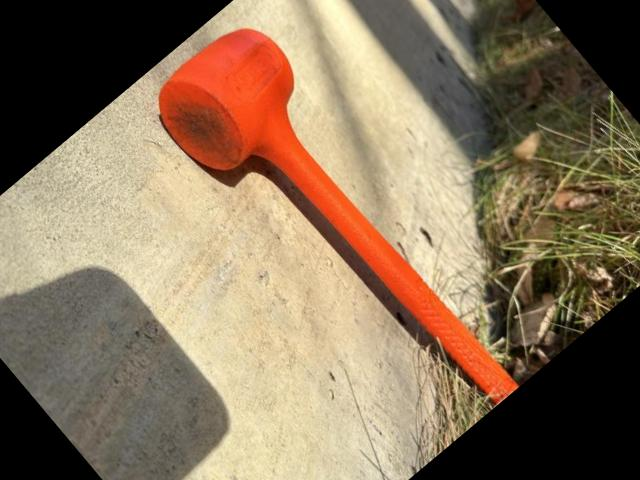hammer: (140, 10, 546, 455)
